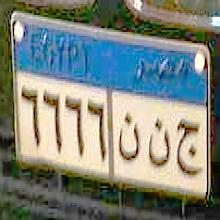6: (18, 80, 41, 153), (84, 95, 108, 160), (42, 86, 63, 156), (63, 91, 84, 160)
jeem: (175, 114, 202, 183)
noon: (146, 115, 171, 176), (116, 108, 140, 170)
